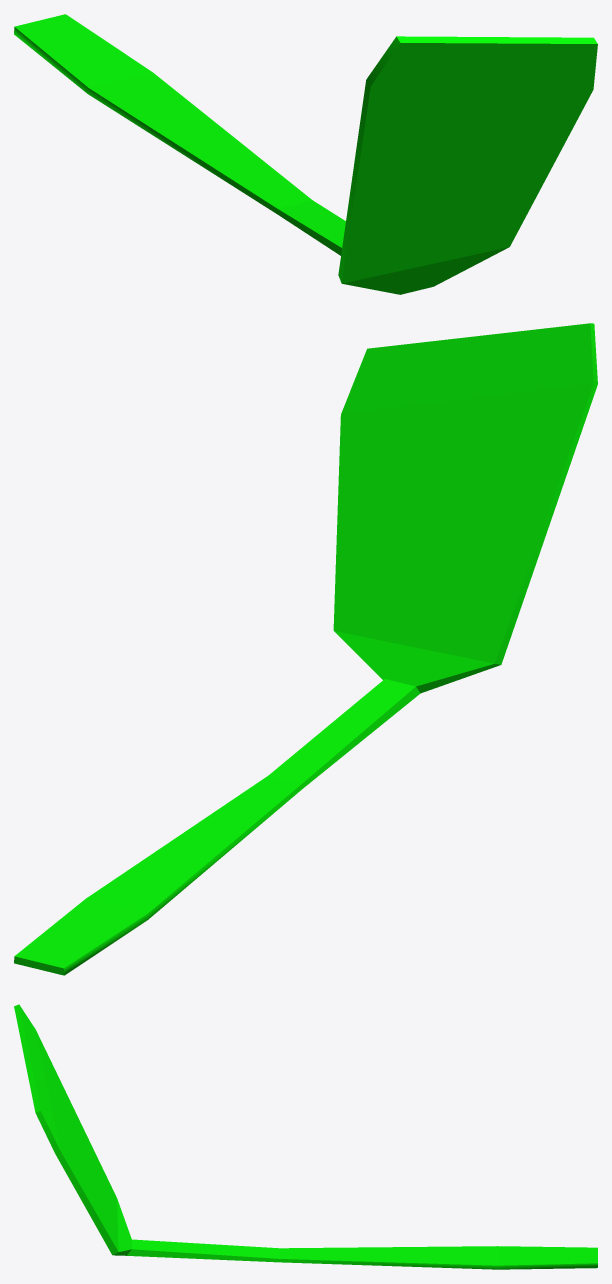
The model's file is SM_KitchenTool_09_Collider.fbx.
3 views of the same model, one above another, from view 1: azimuth 30°, elevation 25°; view 2: azimuth 150°, elevation 25°; view 3: azimuth 270°, elevation 25° (orthographic). The views are drawn at different scales.
Visible parts, largest first — view 1: SM_KitchenTool_09_Collider; view 2: SM_KitchenTool_09_Collider; view 3: SM_KitchenTool_09_Collider.
Boxes of the visible parts, x1,y1,x2,y2 form: SM_KitchenTool_09_Collider: [14, 14, 597, 294]; SM_KitchenTool_09_Collider: [14, 323, 597, 975]; SM_KitchenTool_09_Collider: [14, 1004, 597, 1269].
Bounding box in the file's own units: 13.46 × 18.96 × 45.01.
